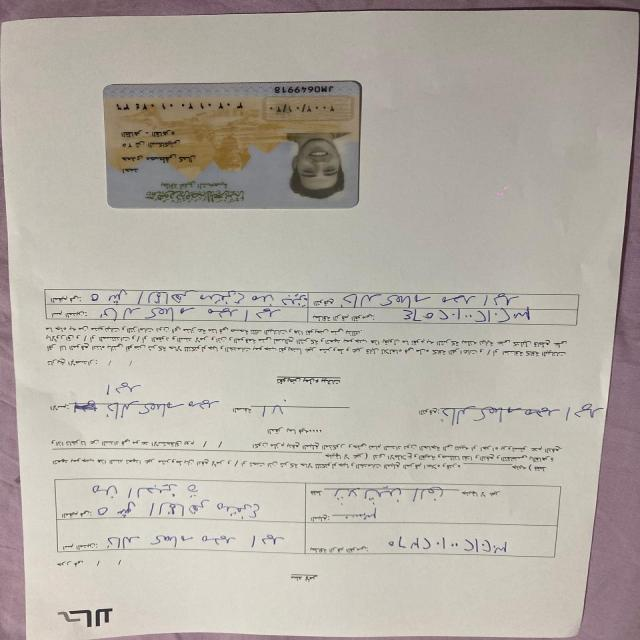ID-cards: (99, 78, 372, 212)
